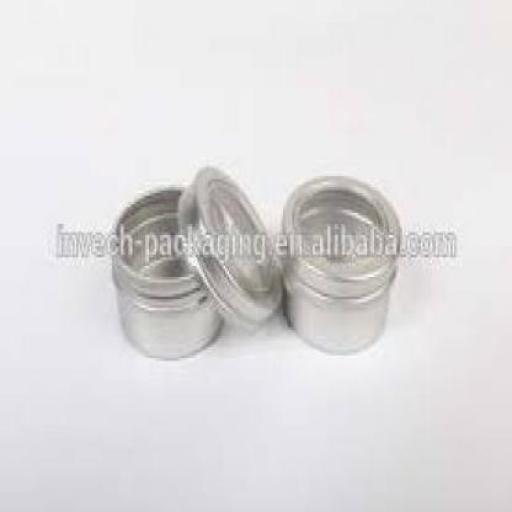metal: (281, 174, 401, 347), (112, 184, 224, 356), (177, 162, 281, 330)
